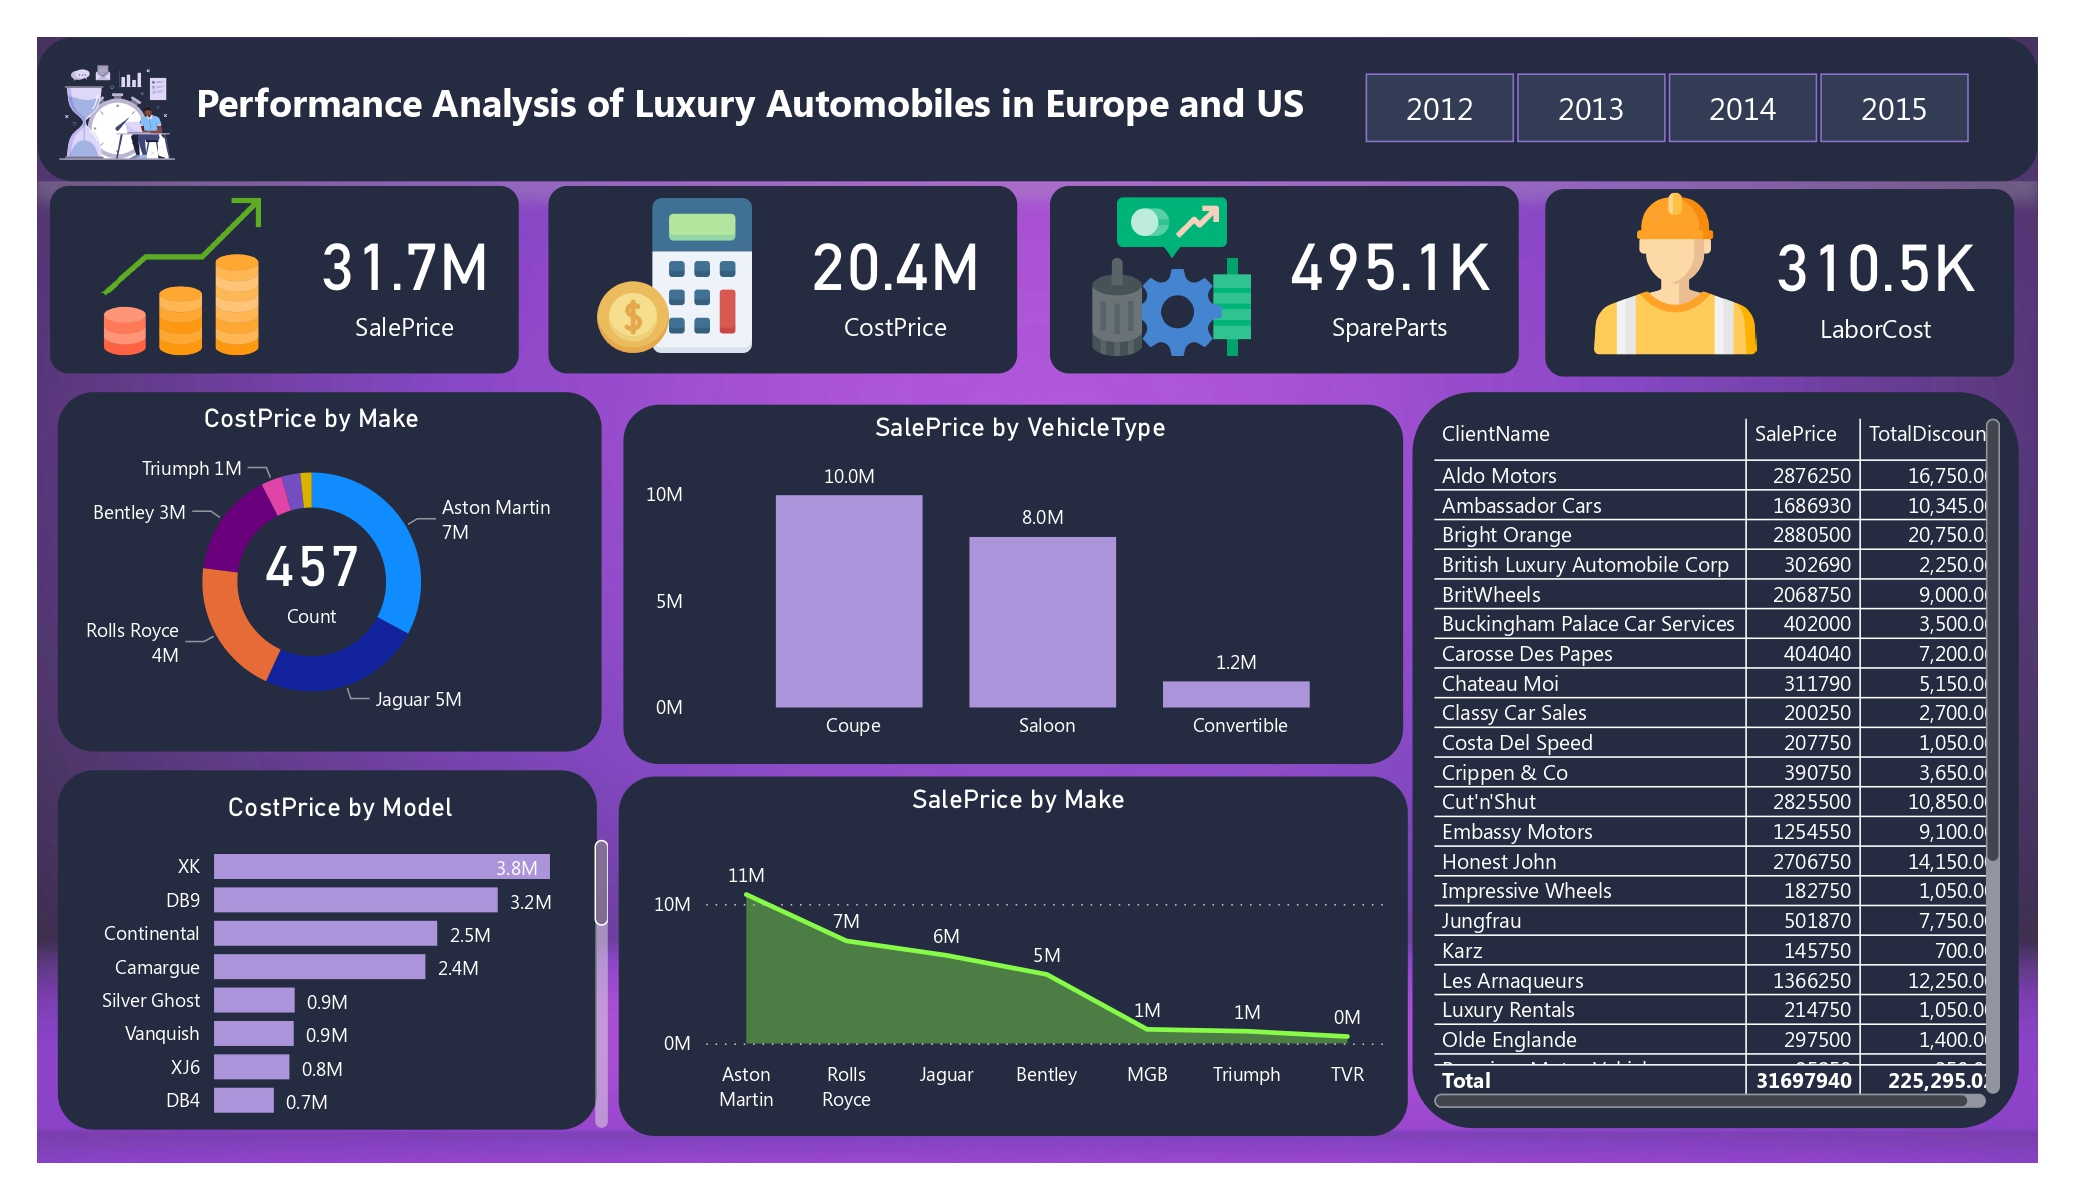

Layout of this report page (visuals, bound fields, positions):
{"tool":"powerbi","page":{"name":"Performance Analysis","canvas":[1280,720],"ordinal":1},"visuals":[{"type":"shape","box":[12.8,227.2,347.9,230.1],"z":0},{"type":"shape","box":[12.8,468.6,345.1,230.1],"z":1000},{"type":"shape","box":[375.3,234.7,498.5,230.1],"z":2000},{"type":"shape","box":[371.7,473.3,505,230],"z":3000},{"type":"shape","box":[879.7,226.9,388.7,471.3],"z":4000},{"type":"shape","box":[0,0,1280,91.7],"z":5000},{"type":"textbox","box":[51.4,20,810,50],"z":6000},{"type":"slicer","fields":{"Values":["BaseData.InvoiceDate.Variation.Date Hierarchy.Year"]},"box":[824.3,15.7,435.7,58.6],"z":7000},{"type":"shape","box":[8.3,95,300,120],"z":8000},{"type":"shape","box":[326.7,95,300,120],"z":9000},{"type":"shape","box":[648.3,95,300,120],"z":10000},{"type":"shape","box":[965,96.7,300,120],"z":11000},{"type":"card","fields":{"Values":["Sum(BaseData.SalePrice)"]},"box":[163.3,99,143.4,107.9],"z":12000},{"type":"card","fields":{"Values":["Sum(BaseData.CostPrice)"]},"box":[477.2,99,143.4,107.9],"z":13000},{"type":"card","fields":{"Values":["Sum(BaseData.SpareParts)"]},"box":[793.8,99,143.4,107.9],"z":14000},{"type":"card","fields":{"Values":["Sum(BaseData.LaborCost)"]},"box":[1105,100,143.3,108.3],"z":15000},{"type":"image","box":[21.3,96.6,142,112.2],"z":16000},{"type":"image","box":[338,98,139.2,109.3],"z":17000},{"type":"image","box":[991.2,89.5,113.6,123.6],"z":18000},{"type":"image","box":[660.4,92.3,132.1,122.1],"z":19000},{"type":"donutChart","fields":{"Y":["Sum(BaseData.CostPrice)"],"Category":["BaseData.Make"]},"box":[0,232.5,351.2,212.5],"z":20000},{"type":"clusteredBarChart","fields":{"Y":["Sum(BaseData.CostPrice)"],"Category":["BaseData.Model"]},"box":[18.3,481.7,351.7,221.7],"z":21000},{"type":"clusteredColumnChart","fields":{"Y":["Sum(BaseData.SalePrice)"],"Category":["BaseData.VehicleType"]},"box":[383.5,238.8,490.9,220.7],"z":22000},{"type":"tableEx","fields":{"Values":["BaseData.ClientName","Sum(BaseData.SalePrice)","Sum(BaseData.TotalDiscount)"]},"box":[887.9,238.5,373.5,451.5],"z":23000},{"type":"card","fields":{"Values":["CountNonNull(BaseData.VehicleType)"]},"box":[135,301.2,81.2,83.8],"z":24000},{"type":"areaChart","fields":{"Y":["Sum(BaseData.SalePrice)"],"Category":["BaseData.Make"]},"box":[383.3,476.7,490,218.3],"z":25000},{"type":"image","box":[2.9,0,95.7,95.7],"z":26000}]}

Visuals, with their boxes on the page's 1280x720 design canvas (x1, y1, x2, y2). These are canvas units, not pixel positions in the 2075x1200 screenshot, which may show the page scaled, cropped or inside an application window:
shape: (13, 227, 361, 457)
shape: (13, 469, 358, 699)
shape: (375, 235, 874, 465)
shape: (372, 473, 877, 703)
shape: (880, 227, 1268, 698)
shape: (0, 0, 1280, 92)
textbox: (51, 20, 861, 70)
slicer - BaseData.InvoiceDate.Variation.Date Hierarchy.Year: (824, 16, 1260, 74)
shape: (8, 95, 308, 215)
shape: (327, 95, 627, 215)
shape: (648, 95, 948, 215)
shape: (965, 97, 1265, 217)
card - Sum(BaseData.SalePrice): (163, 99, 307, 207)
card - Sum(BaseData.CostPrice): (477, 99, 621, 207)
card - Sum(BaseData.SpareParts): (794, 99, 937, 207)
card - Sum(BaseData.LaborCost): (1105, 100, 1248, 208)
image: (21, 97, 163, 209)
image: (338, 98, 477, 207)
image: (991, 90, 1105, 213)
image: (660, 92, 792, 214)
donutChart - Sum(BaseData.CostPrice) x BaseData.Make: (0, 232, 351, 445)
clusteredBarChart - Sum(BaseData.CostPrice) x BaseData.Model: (18, 482, 370, 703)
clusteredColumnChart - Sum(BaseData.SalePrice) x BaseData.VehicleType: (384, 239, 874, 460)
tableEx - BaseData.ClientName x Sum(BaseData.SalePrice): (888, 238, 1261, 690)
card - CountNonNull(BaseData.VehicleType): (135, 301, 216, 385)
areaChart - Sum(BaseData.SalePrice) x BaseData.Make: (383, 477, 873, 695)
image: (3, 0, 99, 96)
